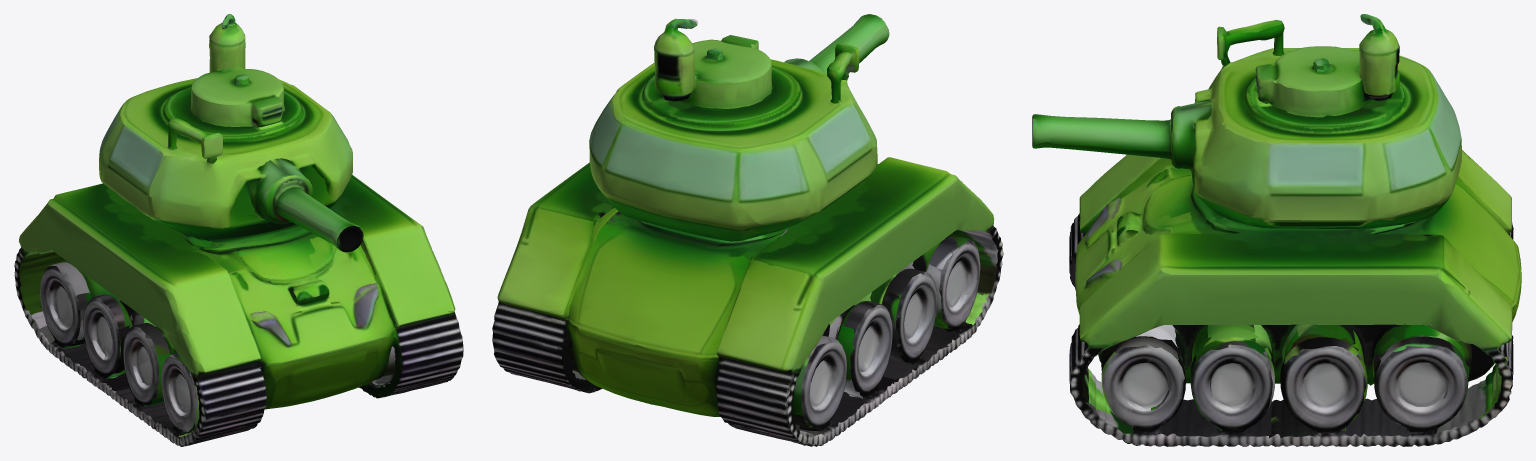
3 renders of one model, left to right at view 1: azimuth 30°, elevation 25°; view 2: azimuth 150°, elevation 25°; view 3: azimuth 270°, elevation 25°, orthographic. The views are drawn at different scales.
Visible parts, largest first — view 1: tmpebe3hmup.ply; view 2: tmpebe3hmup.ply; view 3: tmpebe3hmup.ply.
Boxes of the visible parts, x1,y1,x2,y2 form: tmpebe3hmup.ply: (14, 14, 463, 446); tmpebe3hmup.ply: (492, 14, 1003, 446); tmpebe3hmup.ply: (1032, 14, 1521, 446).
Size of the model in its own units: 1.42 by 1.66 by 1.99.
1 material, 1 textured.
